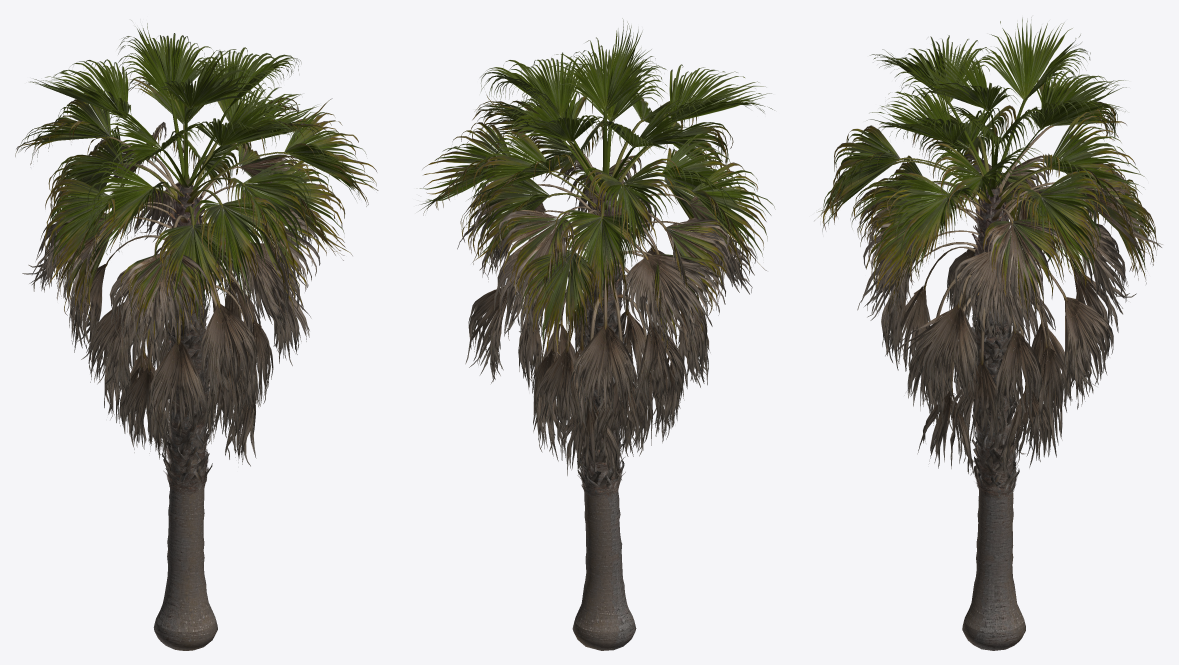
Rendered from washingtonia_b.glb.
3 renders of one model, left to right at view 1: azimuth 30°, elevation 25°; view 2: azimuth 150°, elevation 25°; view 3: azimuth 270°, elevation 25°, orthographic.
Parts seen in each view (by area): view 1: Washingtonia_Robusta_3_Material #87_0 (×2), Washingtonia_Robusta_3_Material #81_0, Washingtonia_Robusta_3_Material #82_0, Washingtonia_Robusta_3_Material #83_0, Washingtonia_Robusta_3_Material #86_0, Washingtonia_Robusta_3_Material #84_0, Washingtonia_Robusta_3_Material #85_0; view 2: Washingtonia_Robusta_3_Material #87_0 (×2), Washingtonia_Robusta_3_Material #81_0, Washingtonia_Robusta_3_Material #86_0, Washingtonia_Robusta_3_Material #82_0, Washingtonia_Robusta_3_Material #83_0, Washingtonia_Robusta_3_Material #84_0, Washingtonia_Robusta_3_Material #85_0; view 3: Washingtonia_Robusta_3_Material #87_0 (×2), Washingtonia_Robusta_3_Material #81_0, Washingtonia_Robusta_3_Material #82_0, Washingtonia_Robusta_3_Material #86_0, Washingtonia_Robusta_3_Material #83_0, Washingtonia_Robusta_3_Material #85_0, Washingtonia_Robusta_3_Material #84_0, Washingtonia_Robusta_3_Material #88_0.
Part boxes in pixels (x1,y1,x2,y2): Washingtonia_Robusta_3_Material #87_0 (×2): (15, 20, 378, 466); Washingtonia_Robusta_3_Material #81_0: (153, 186, 217, 650); Washingtonia_Robusta_3_Material #82_0: (161, 185, 212, 489); Washingtonia_Robusta_3_Material #83_0: (163, 279, 211, 495); Washingtonia_Robusta_3_Material #86_0: (105, 136, 253, 371); Washingtonia_Robusta_3_Material #84_0: (122, 98, 240, 190); Washingtonia_Robusta_3_Material #85_0: (121, 124, 288, 228); Washingtonia_Robusta_3_Material #87_0 (×2): (419, 18, 775, 482); Washingtonia_Robusta_3_Material #81_0: (572, 191, 636, 650); Washingtonia_Robusta_3_Material #86_0: (532, 153, 690, 400); Washingtonia_Robusta_3_Material #82_0: (577, 189, 626, 488); Washingtonia_Robusta_3_Material #83_0: (577, 270, 625, 498); Washingtonia_Robusta_3_Material #84_0: (562, 108, 675, 194); Washingtonia_Robusta_3_Material #85_0: (548, 120, 694, 218); Washingtonia_Robusta_3_Material #87_0 (×2): (814, 17, 1162, 479); Washingtonia_Robusta_3_Material #81_0: (962, 188, 1025, 650); Washingtonia_Robusta_3_Material #82_0: (970, 187, 1019, 491); Washingtonia_Robusta_3_Material #86_0: (911, 125, 1073, 395); Washingtonia_Robusta_3_Material #83_0: (972, 285, 1018, 498); Washingtonia_Robusta_3_Material #85_0: (893, 136, 1053, 210); Washingtonia_Robusta_3_Material #84_0: (946, 97, 1044, 196); Washingtonia_Robusta_3_Material #88_0: (975, 188, 1008, 285).
Bounding box in the file's own units: 6.98 × 13 × 6.98.
Materials: 7 (7 with a texture image).
